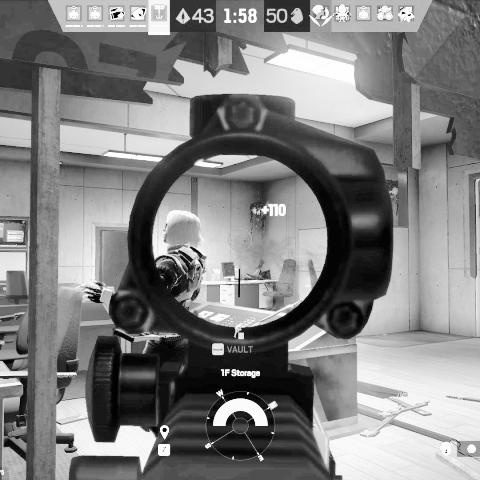Character: (85, 209, 208, 358)
Head: (163, 210, 202, 248)
